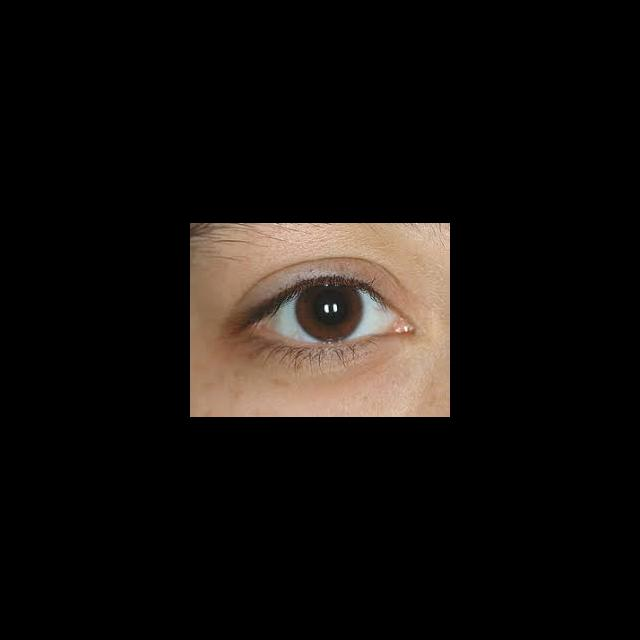eye: (264, 281, 395, 344)
iris: (296, 285, 364, 341)
